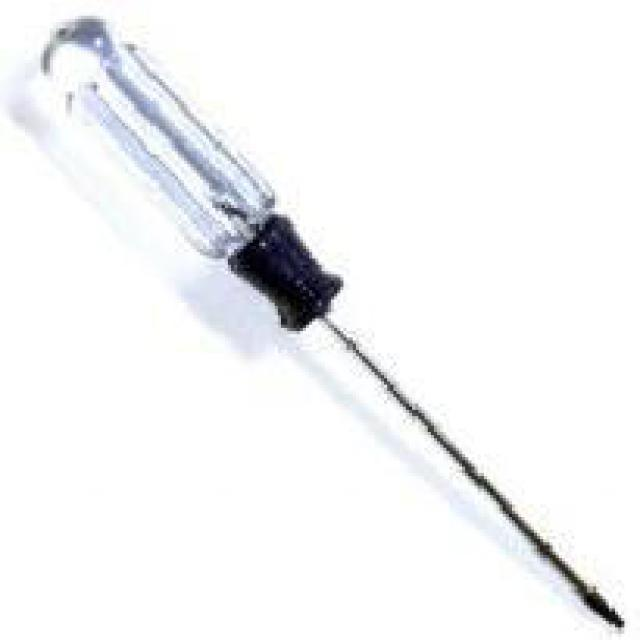screwdriver: (27, 12, 634, 638)
